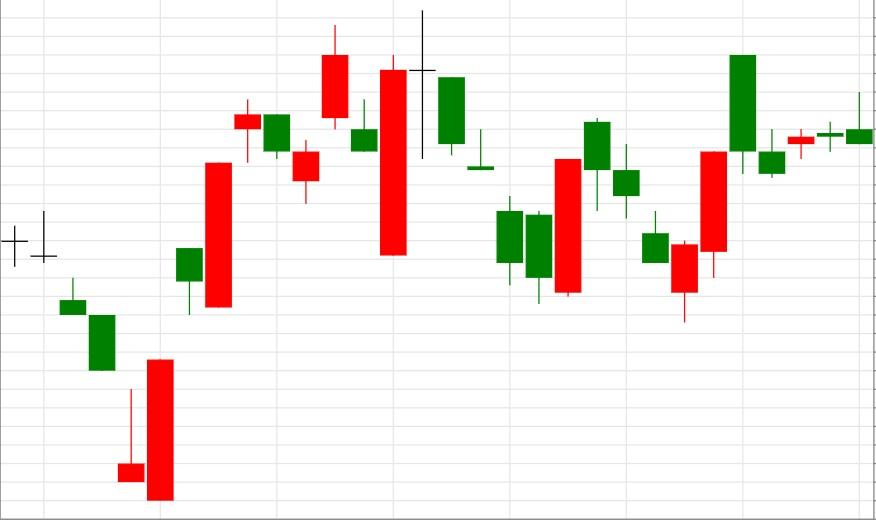inverse_hammer_rise: (0, 211, 146, 484)
three_black_crows_fall: (525, 117, 670, 303)
